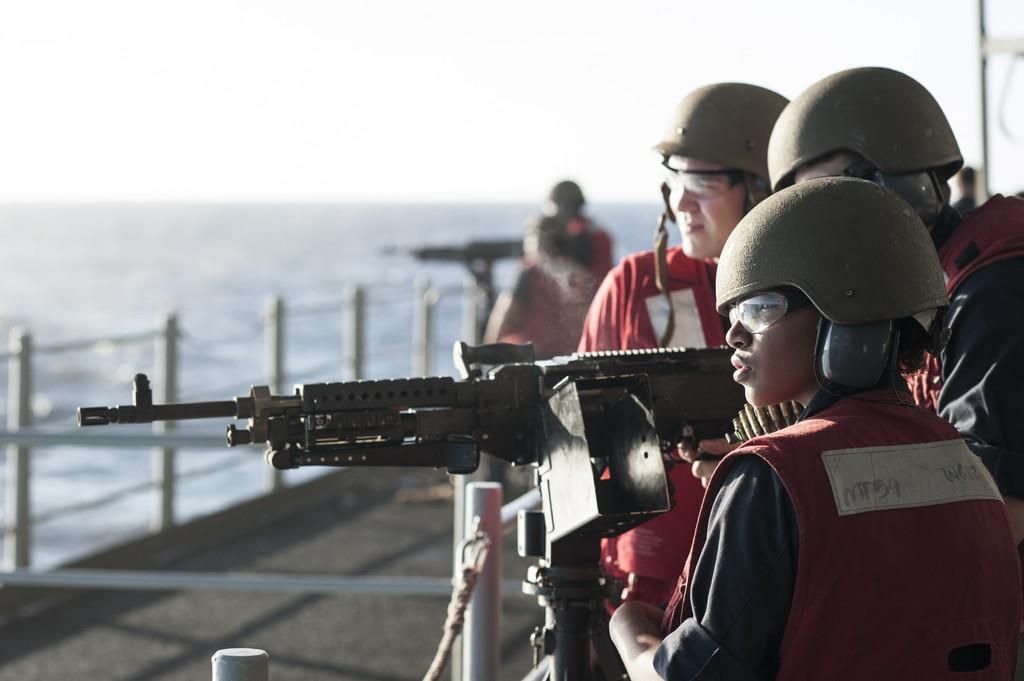non-violence: (651, 184, 1024, 681), (576, 80, 793, 386)
weapon: (77, 323, 810, 570), (378, 234, 527, 309)
